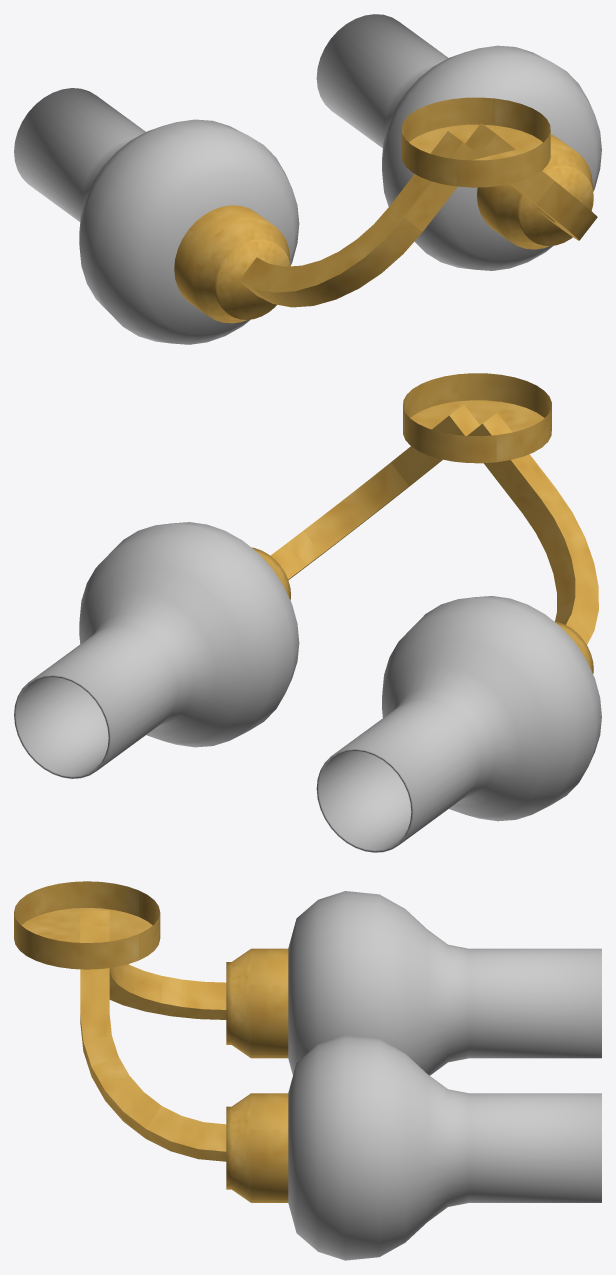
The model's file is LampOilWallMounting.fbx.
The picture shows the model from 3 angles, top to bottom: view 1: azimuth 30°, elevation 25°; view 2: azimuth 150°, elevation 25°; view 3: azimuth 270°, elevation 25°; orthographic projection. The views are drawn at different scales.
Visible parts, largest first — view 1: Circle; view 2: Circle; view 3: Circle.
Part boxes in pixels (x1,y1,x2,y2): Circle: [14, 14, 601, 344]; Circle: [14, 373, 601, 852]; Circle: [14, 881, 601, 1260].
Size of the model in its own units: 0.388 by 0.2002 by 0.402.
